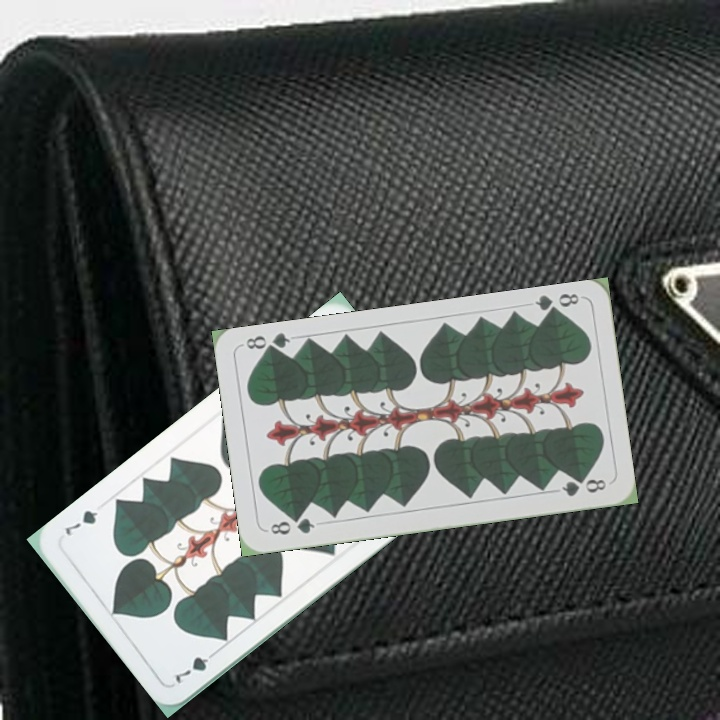G7: (168, 645, 220, 686)
G8: (531, 289, 582, 320), (266, 513, 317, 538)
